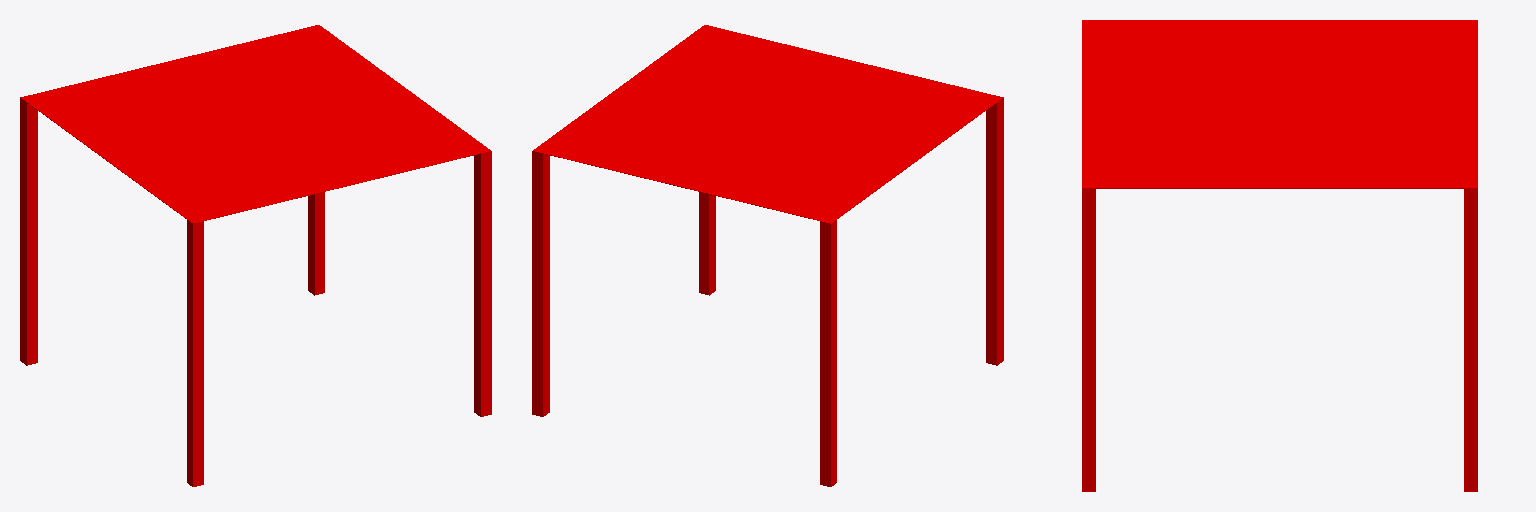
URDF robot description (motoman_motomini):
<?xml version="1.0" encoding="utf-8"?>
<!-- =================================================================================== -->
<!-- |    This document was autogenerated by xacro from motomini.xacro                 | -->
<!-- |    EDITING THIS FILE BY HAND IS NOT RECOMMENDED                                 | -->
<!-- =================================================================================== -->
<robot name="motoman_motomini">
  <!-- World frame -->
  <link name="world"/>
  <link name="table">
    <origin rpy="0 0 0" xyz="0.0 0.0 0"/>
    <inertial>
      <mass value="5"/>
      <origin xyz="0 0 0"/>
      <inertia ixx="1" ixy="0.0" ixz="0.0" iyy="1" iyz="0.0" izz="1"/>
    </inertial>
    <visual>
      <geometry>
        <box size="0.83 0.830 0.001"/>
      </geometry>
      <material name="light_grey">
        <color rgba="128 0 0 1.0"/>
      </material>
    </visual>
    <collision>
      <geometry>
        <box size="0.83 0.830 0.001"/>
      </geometry>
    </collision>
  </link>
  <link name="leg1">
    <origin rpy="0 0 0" xyz="0.0 0.0 0"/>
    <inertial>
      <mass value="1"/>
      <origin xyz="0 0 0"/>
      <inertia ixx="1" ixy="0.0" ixz="0.0" iyy="1" iyz="0.0" izz="1"/>
    </inertial>
    <visual>
      <geometry>
        <box size="0.03 0.03 0.7"/>
      </geometry>
      <material name="light_grey">
        <color rgba="128 0 0 1.0"/>
      </material>
    </visual>
    <collision>
      <geometry>
        <box size="0.03 0.03 0.7"/>
      </geometry>
    </collision>
  </link>
  <link name="leg2">
    <origin rpy="0 0 0" xyz="0.0 0.0 0"/>
    <inertial>
      <mass value="1"/>
      <origin xyz="0 0 0"/>
      <inertia ixx="1" ixy="0.0" ixz="0.0" iyy="1" iyz="0.0" izz="1"/>
    </inertial>
    <visual>
      <geometry>
        <box size="0.03 0.03 0.7"/>
      </geometry>
      <material name="light_grey">
        <color rgba="128 0 0 1.0"/>
      </material>
    </visual>
    <collision>
      <geometry>
        <box size="0.03 0.03 0.7"/>
      </geometry>
    </collision>
  </link>
  <link name="leg3">
    <origin rpy="0 0 0" xyz="0.0 0.0 0"/>
    <inertial>
      <mass value="1"/>
      <origin xyz="0 0 0"/>
      <inertia ixx="1" ixy="0.0" ixz="0.0" iyy="1" iyz="0.0" izz="1"/>
    </inertial>
    <visual>
      <geometry>
        <box size="0.03 0.03 0.7"/>
      </geometry>
      <material name="light_grey">
        <color rgba="128 0 0 1.0"/>
      </material>
    </visual>
    <collision>
      <geometry>
        <box size="0.03 0.03 0.7"/>
      </geometry>
    </collision>
  </link>
  <link name="leg4">
    <origin rpy="0 0 0" xyz="0.0 0.0 0"/>
    <inertial>
      <mass value="1"/>
      <origin xyz="0 0 0"/>
      <inertia ixx="1" ixy="0.0" ixz="0.0" iyy="1" iyz="0.0" izz="1"/>
    </inertial>
    <visual>
      <geometry>
        <box size="0.03 0.03 0.7"/>
      </geometry>
      <material name="light_grey">
        <color rgba="128 0 0 1.0"/>
      </material>
    </visual>
    <collision>
      <geometry>
        <box size="0.03 0.03 0.7"/>
      </geometry>
    </collision>
  </link>
  <joint name="world_joint" type="fixed">
    <parent link="world"/>
    <child link="table"/>
    <origin rpy="0 0 -1.57079632679" xyz="0 0 0"/>
    <!--<limit lower= "-3.0" upper= "3.0" effort="200" velocity="3" />
    <axis xyz = "0 0 1" />-->
  </joint>
  <joint name="leg1_joint" type="fixed">
    <parent link="table"/>
    <child link="leg1"/>
    <origin rpy="0.0 0.0 0" xyz="0.4 0.4 -0.35"/>
  </joint>
  <joint name="leg2_joint" type="fixed">
    <parent link="table"/>
    <child link="leg2"/>
    <origin rpy="0 0 0" xyz="0.4 -0.4 -0.35"/>
  </joint>
  <joint name="leg3_joint" type="fixed">
    <parent link="table"/>
    <child link="leg3"/>
    <origin rpy="0 0 0" xyz="-0.4 0.4 -0.35"/>
  </joint>
  <joint name="leg4_joint" type="fixed">
    <parent link="table"/>
    <child link="leg4"/>
    <origin rpy="0 0 0" xyz="-0.4 -0.4 -0.35"/>
  </joint>
  <!-- Properties -->
  
</robot>

--- Facts derived from the render (not from the file) ---
Views: 3 orthographic renders of the robot side by side, from view 1: azimuth 30°, elevation 25°; view 2: azimuth 150°, elevation 25°; view 3: azimuth 270°, elevation 25°.
Robot: motoman_motomini — 6 links, 5 joints (5 fixed); root link world; default pose: every joint at zero.
Links seen in each view (by area): view 1: table, leg1, leg4, leg2, leg3; view 2: table, leg3, leg2, leg4, leg1; view 3: table, leg1, leg3.
Boxes of the visible links, bbox=[...] form: table: bbox=[20, 25, 490, 223]; leg1: bbox=[474, 151, 491, 416]; leg4: bbox=[20, 98, 37, 365]; leg2: bbox=[187, 220, 203, 486]; leg3: bbox=[308, 192, 324, 295]; table: bbox=[533, 25, 1003, 223]; leg3: bbox=[532, 151, 549, 416]; leg2: bbox=[986, 98, 1003, 365]; leg4: bbox=[820, 220, 836, 486]; leg1: bbox=[699, 192, 715, 295]; table: bbox=[1082, 20, 1477, 188]; leg1: bbox=[1082, 189, 1095, 491]; leg3: bbox=[1464, 189, 1477, 491].
Bounding box of the posed robot: 0.83 × 0.83 × 0.7005 m (x, y, z).
Geometry: primitives only (box / cylinder / sphere), no mesh files.